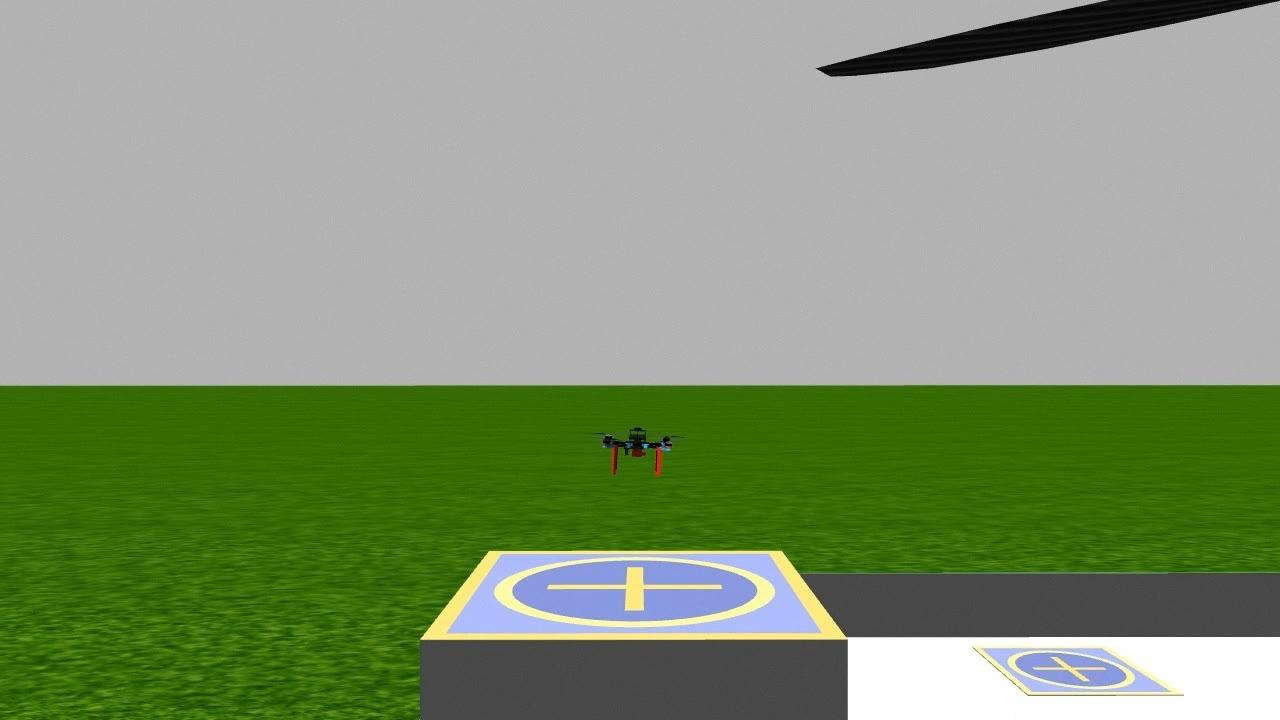UAV: (575, 415, 699, 487)
